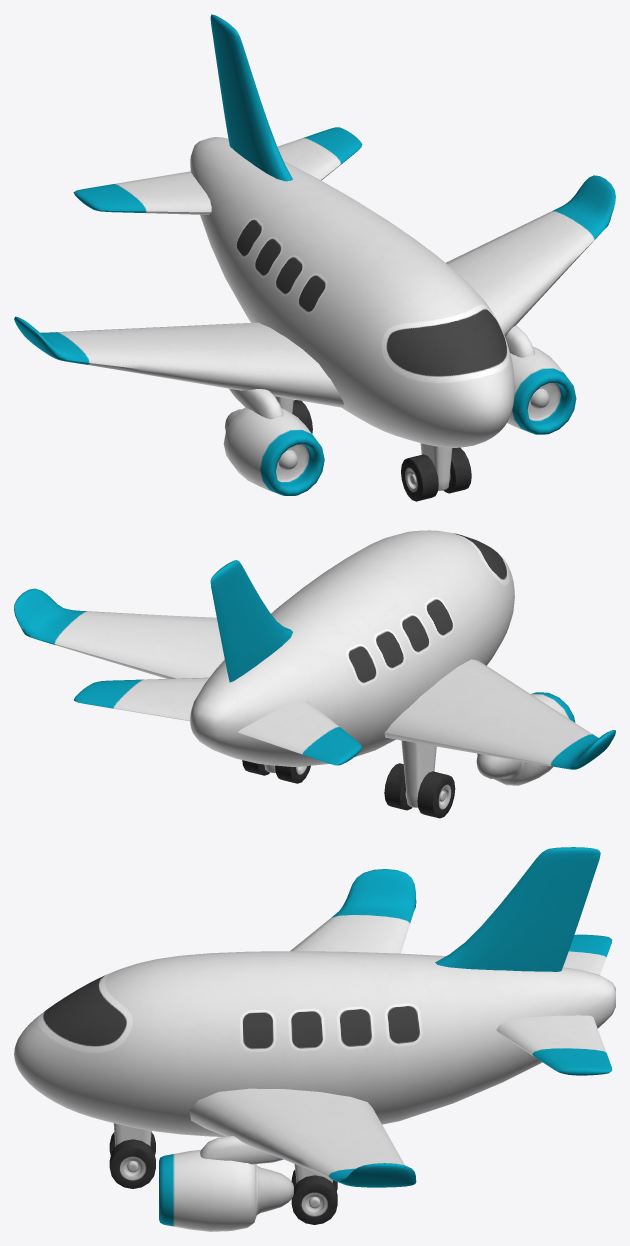
File: toy_airplane.glb
3 renders of one model, top to bottom at view 1: azimuth 30°, elevation 25°; view 2: azimuth 150°, elevation 25°; view 3: azimuth 270°, elevation 25°, orthographic. The views are drawn at different scales.
Parts seen in each view (by area): view 1: toy_airplane; view 2: toy_airplane; view 3: toy_airplane.
Part boxes in pixels (x1,y1,x2,y2): toy_airplane: [14, 14, 615, 501]; toy_airplane: [14, 530, 615, 818]; toy_airplane: [14, 847, 615, 1231].
Size of the model in its own units: 6.74 by 3.5 by 5.79.
Materials: 1 (1 with a texture image).
